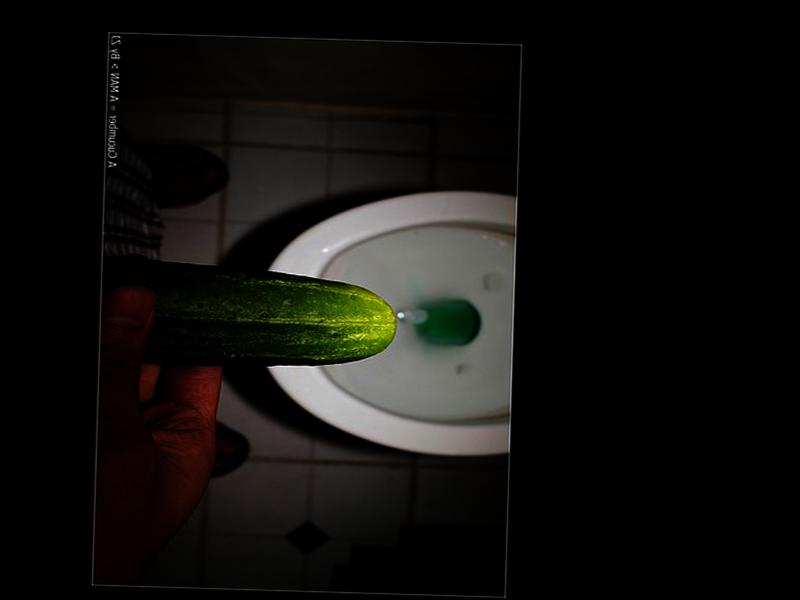Cucumber: (95, 256, 397, 369)
